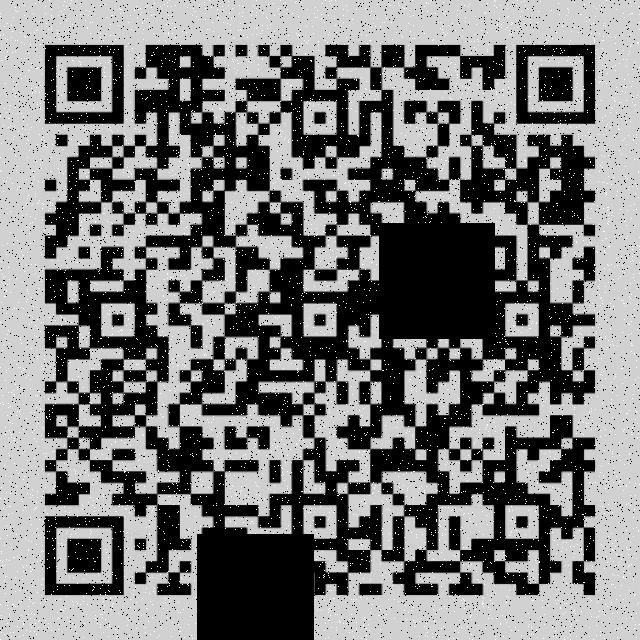QR_CODE: (32, 31, 612, 604)
